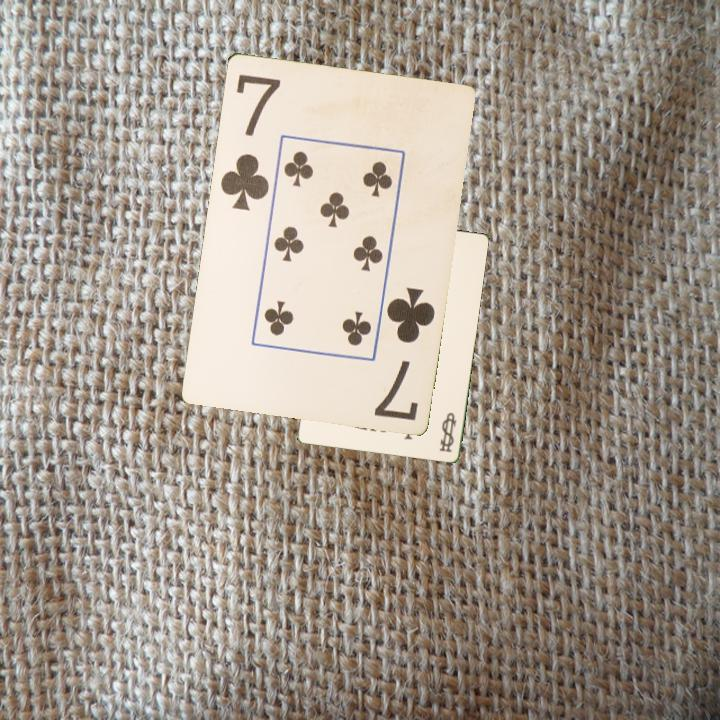7c: (216, 70, 284, 214), (370, 283, 438, 423)
JK: (435, 409, 459, 455)
